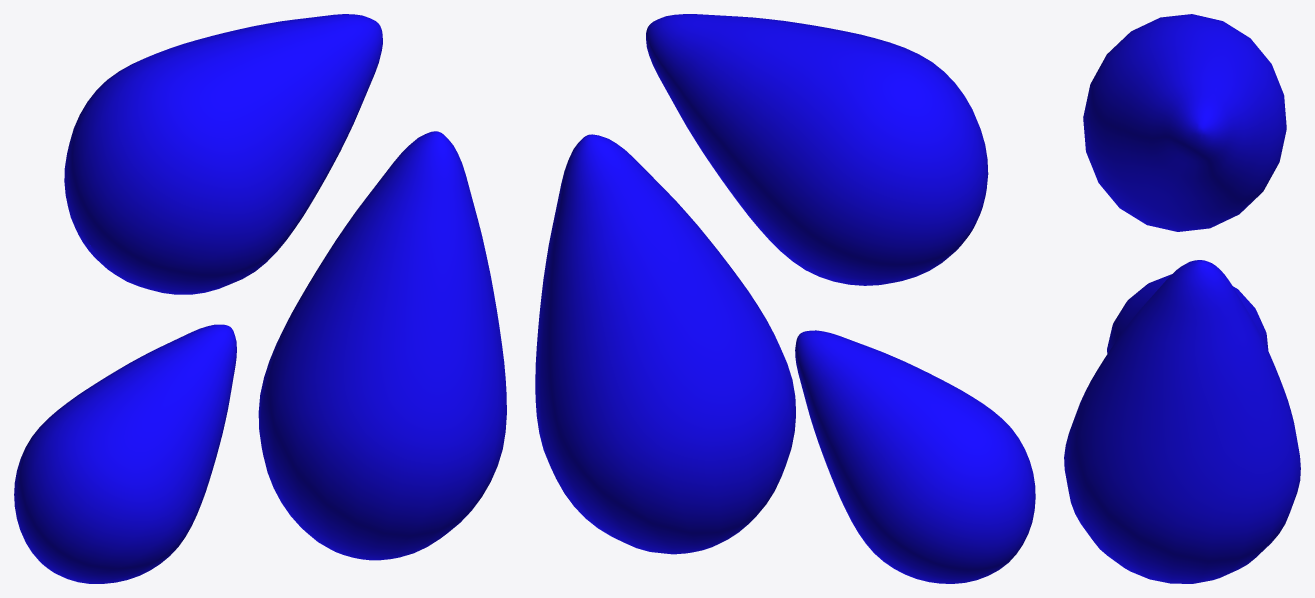
The model's file is tears.FBX.
3 renders of one model, left to right at view 1: azimuth 30°, elevation 25°; view 2: azimuth 150°, elevation 25°; view 3: azimuth 270°, elevation 25°, orthographic. The views are drawn at different scales.
Visible parts, largest first — view 1: Group33369, Group33367, Group33368; view 2: Group33369, Group33367, Group33368; view 3: Group33369, Group33367, Group33368.
Part boxes in pixels (x1,y1,x2,y2): Group33369: [258, 131, 506, 560]; Group33367: [64, 14, 382, 294]; Group33368: [14, 324, 236, 583]; Group33369: [535, 134, 795, 554]; Group33367: [646, 14, 988, 285]; Group33368: [795, 330, 1035, 583]; Group33369: [1064, 260, 1300, 583]; Group33367: [1083, 14, 1286, 231]; Group33368: [1107, 274, 1268, 353].
Size of the model in its own units: 13.84 by 15.37 by 6.94.
